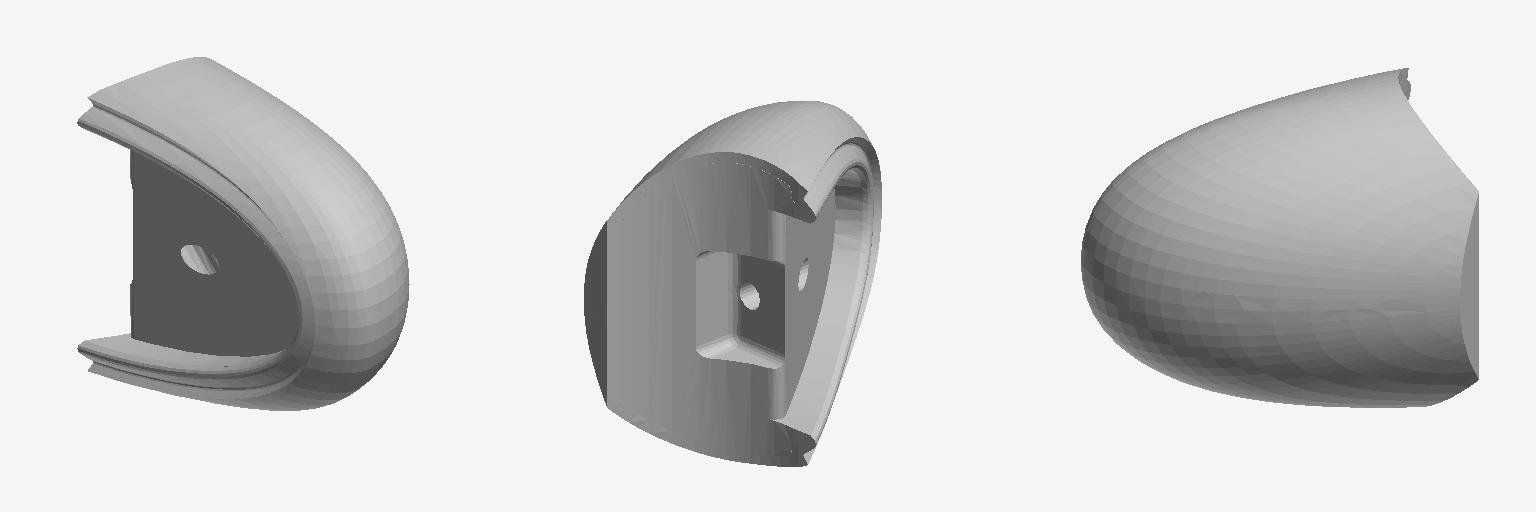
Rendered from converted_r3_finger_distal_tip_col_808080ff.obj.
3 renders of one model, left to right at view 1: azimuth 30°, elevation 25°; view 2: azimuth 150°, elevation 25°; view 3: azimuth 270°, elevation 25°, orthographic.
Bounding box in the file's own units: 0.0225 × 0.0293 × 0.0343.